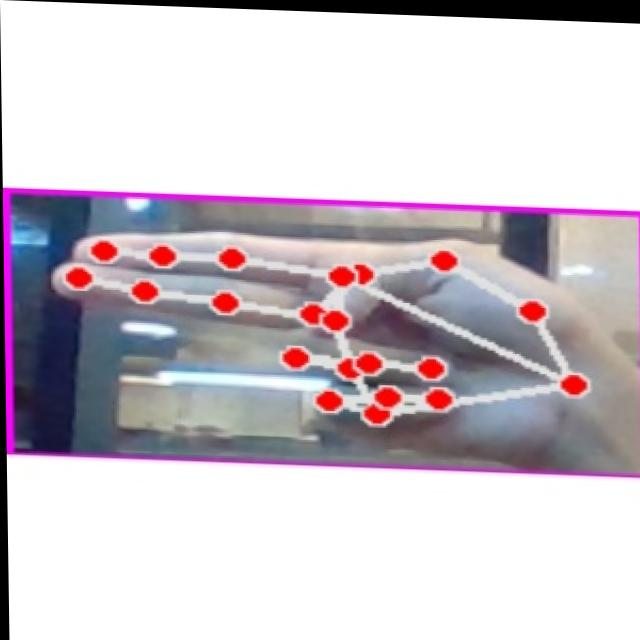H: (23, 202, 618, 462)
